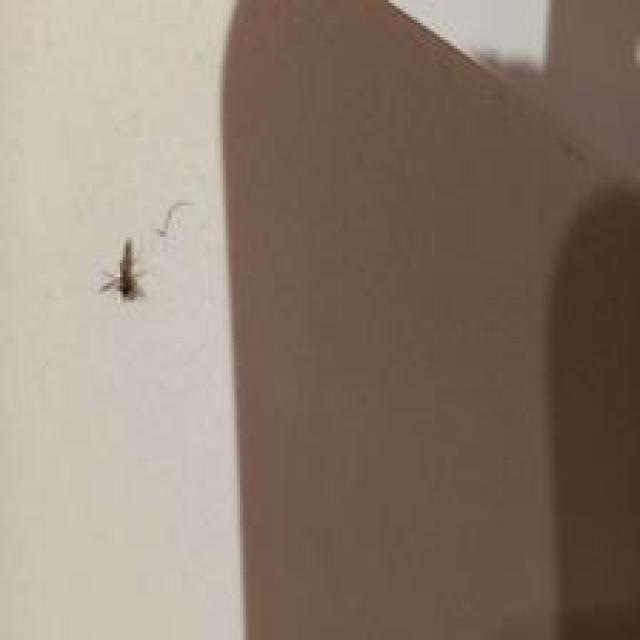Culex: (99, 237, 147, 303)
